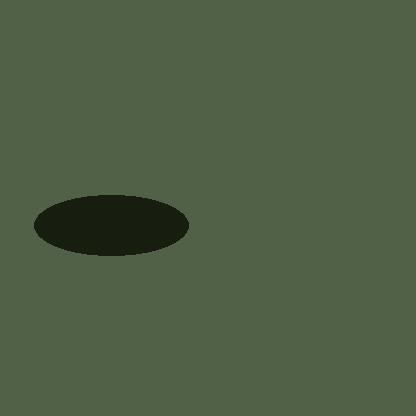pothole: (34, 195, 188, 255)
